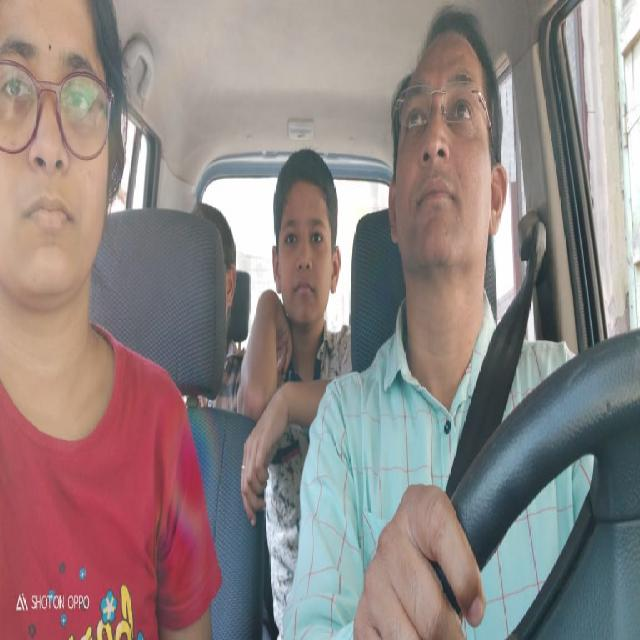person: (0, 3, 122, 301), (390, 31, 505, 267), (276, 155, 341, 311)
